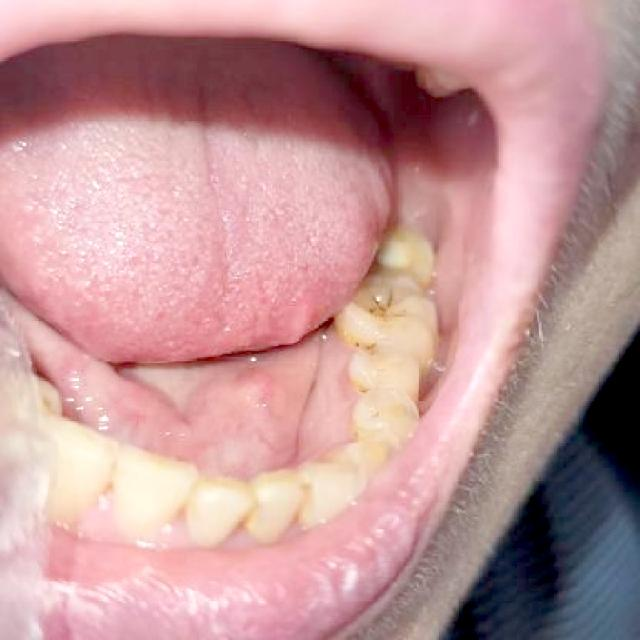Plaque: (362, 275, 418, 329), (366, 396, 387, 420)
